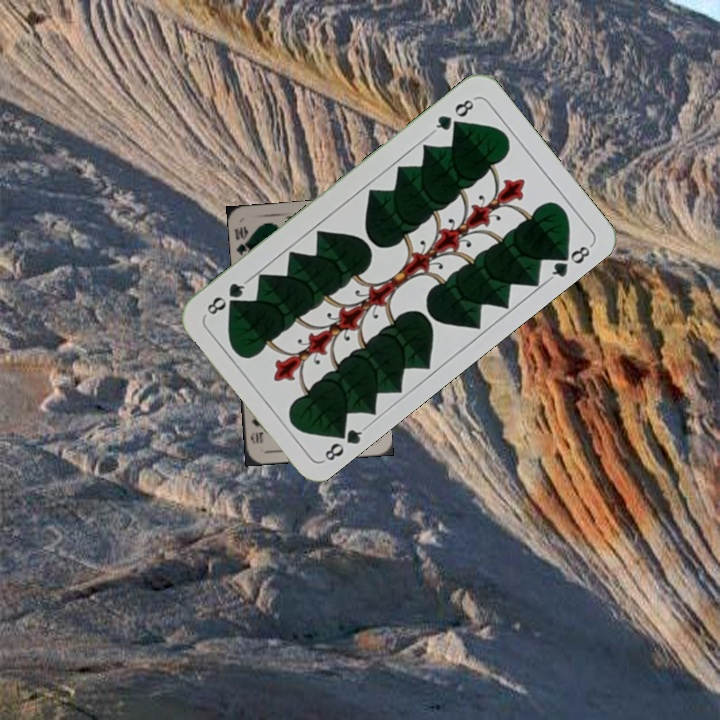G10: (231, 222, 252, 258)
G8: (320, 421, 369, 464), (428, 94, 478, 136)
